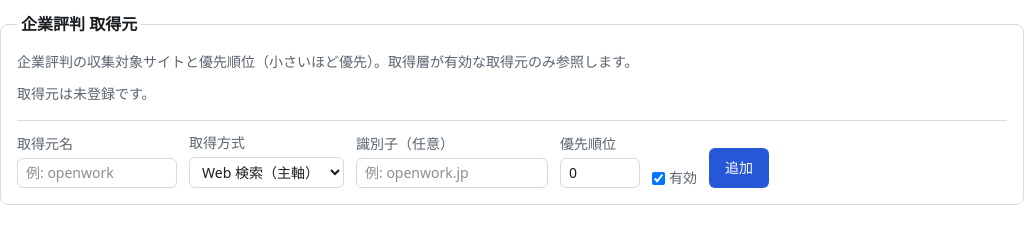
Scenario: ReputationSourcesForm › 空の取得元名では追加せずエラーを出す
Expected: the list item "取得元は未登録です。" is shown, [17,84,156,103]
Click the button "追加": coordinates (739, 168) [709,148,769,188]
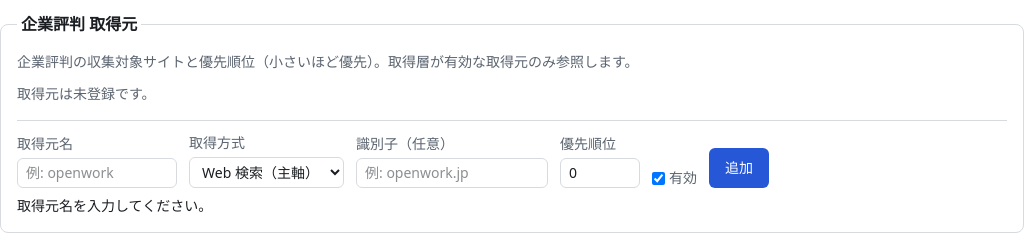
Now the message "取得元名を入力してください。" is shown, box [17,196,212,215]
